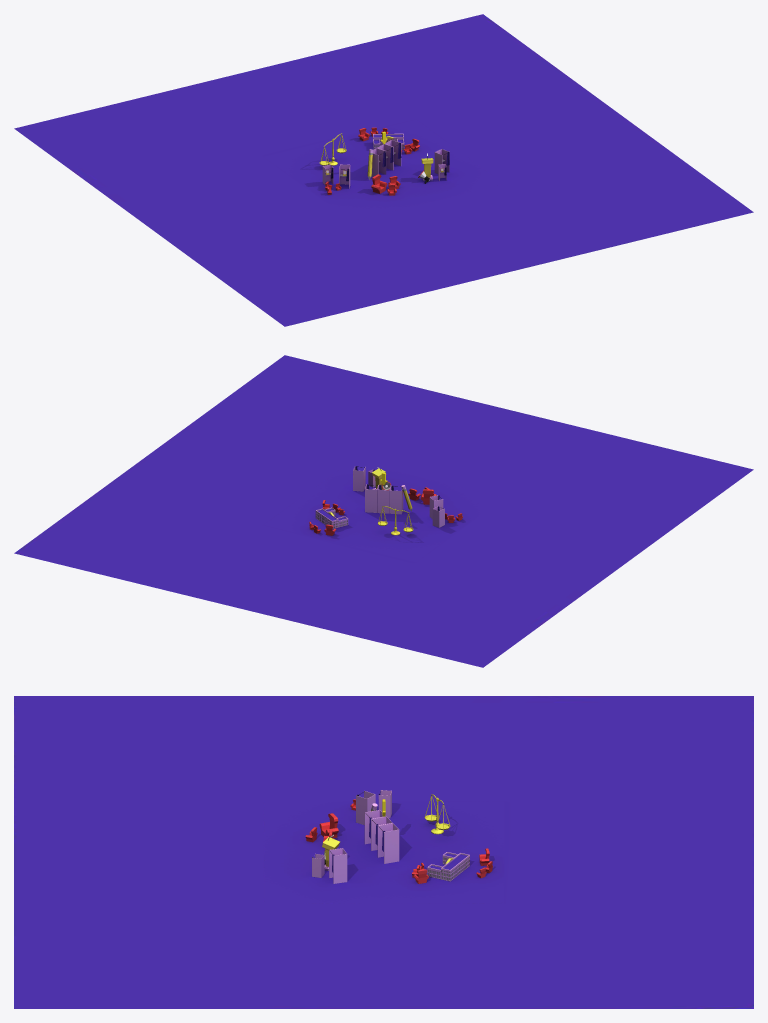
The model's file is 00-start.glb.
3 renders of one model, top to bottom at view 1: azimuth 30°, elevation 25°; view 2: azimuth 150°, elevation 25°; view 3: azimuth 270°, elevation 25°, orthographic. The views are drawn at different scales.
Parts seen in each view (by area): view 1: GEO.Static, GEO.Booths; view 2: GEO.Static, GEO.Booths; view 3: GEO.Static, GEO.Booths.
Part boxes in pixels (bbox=[...]): GEO.Static: bbox=[14, 14, 753, 326]; GEO.Booths: bbox=[367, 140, 401, 179]; GEO.Static: bbox=[14, 355, 753, 667]; GEO.Booths: bbox=[365, 484, 412, 514]; GEO.Static: bbox=[14, 696, 753, 1008]; GEO.Booths: bbox=[364, 803, 399, 863].
Bounding box in the file's own units: 20 × 1.56 × 20.
2 materials, 1 textured.
